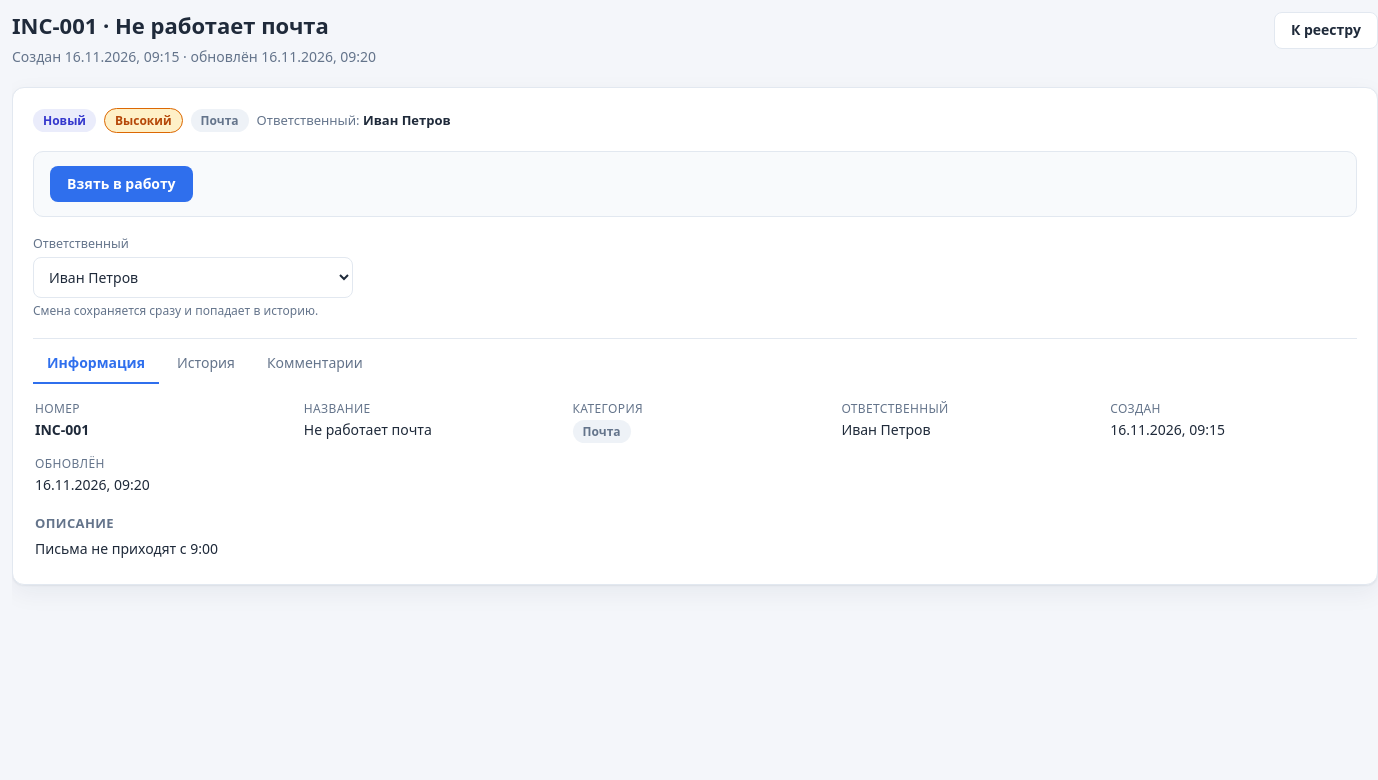
Test: IncidentDetailPage — карточка › на 409 показывает текст ошибки и перезагружает карточку
The image size is (1378, 780).
Click the button "Взять в работу" at point(121, 184), box [50,166,193,202]
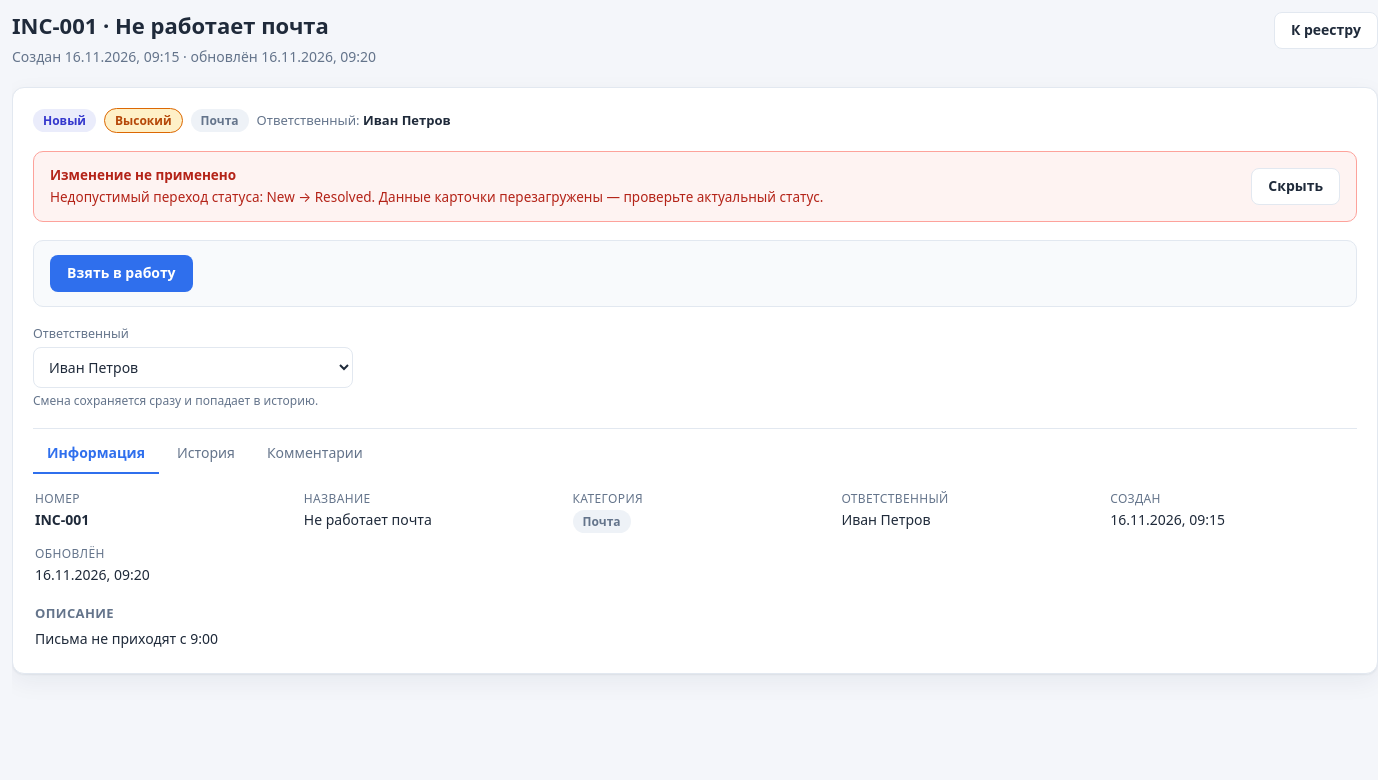
Now the message shows "Недопустимый переход статуса", box [50,188,823,206]
Now the message shows "перезагружены", box [50,188,823,206]
